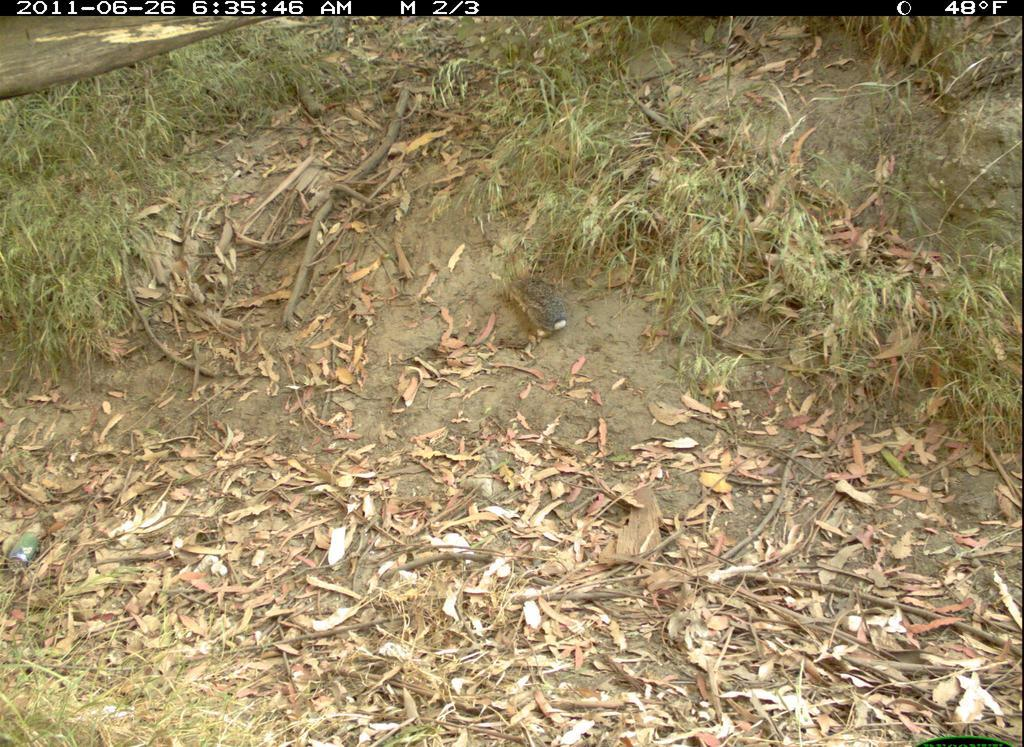rabbit: (495, 245, 575, 347)
